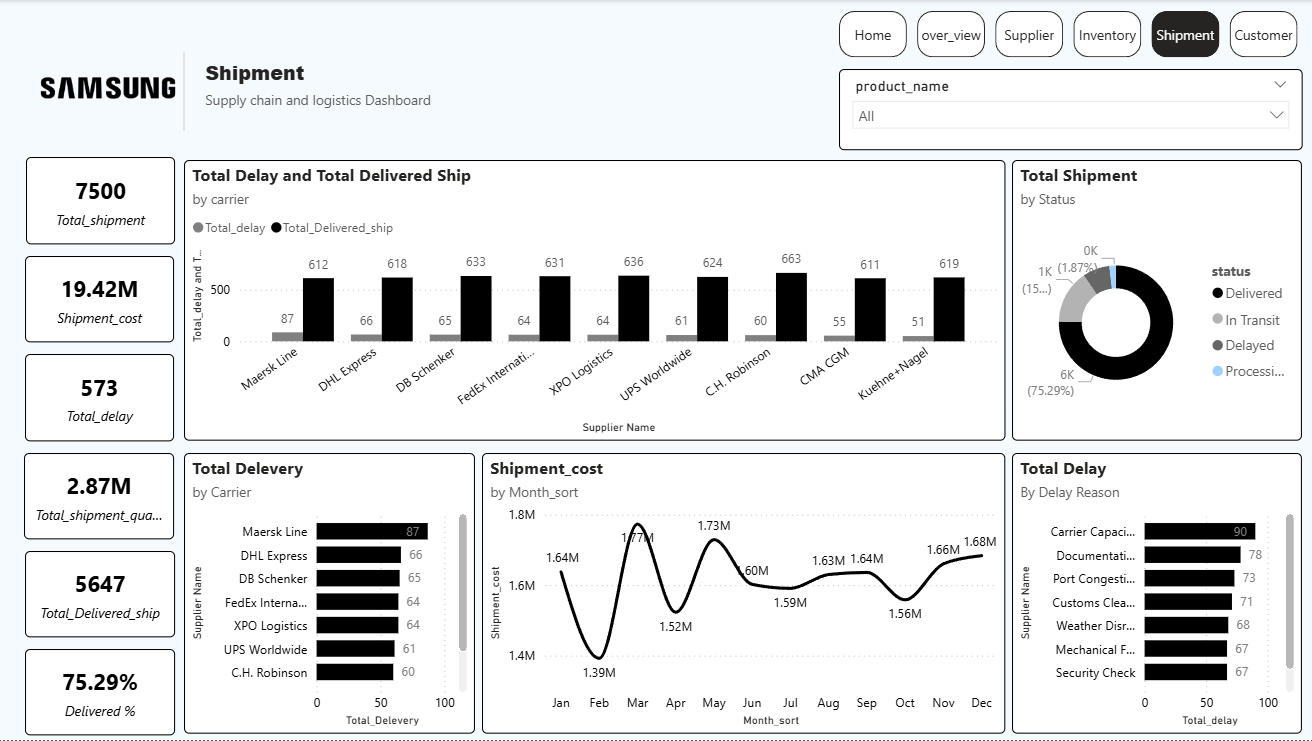

Layout of this report page (visuals, bound fields, positions):
{"tool":"powerbi","page":{"name":"Shipment","canvas":[1280,720],"ordinal":4},"visuals":[{"type":"image","box":[0,0,214,171.2],"z":0},{"type":"shape","box":[73.9,50.6,214,76.8],"z":1000},{"type":"textbox","title":"Shipment ","box":[196.5,56.4,250,58.4],"z":2000},{"type":"card","fields":{"Values":["Total_unit_cost.Shipment_cost"]},"box":[26,249.2,145,84],"z":3000},{"type":"card","fields":{"Values":["Total_unit_cost.Total_delay"]},"box":[26,344.5,145,84.8],"z":4000},{"type":"card","fields":{"Values":["Total_unit_cost.Total_shipment_quantity"]},"box":[25,440.6,145.9,84],"z":5000},{"type":"card","fields":{"Values":["Total_unit_cost.Total_Delivered_ship"]},"box":[26,535.9,145.9,84],"z":6000},{"type":"card","fields":{"Values":["Total_unit_cost.Delivered %"]},"box":[26,631.1,145.9,84],"z":7000},{"type":"card","title":"Gross Profit ","fields":{"Values":["Total_unit_cost.Total_shipment"]},"box":[27,152.9,145,85],"z":8000},{"type":"clusteredBarChart","title":"Total Delevery","fields":{"Category":["Shipment.carrier"],"Y":["Total_unit_cost.Total_Delevery"]},"box":[180.6,441,283.3,273.4],"z":9000},{"type":"pageNavigator","box":[818,10.7,451.3,45.7],"z":10000},{"type":"clusteredColumnChart","title":"Total Delay and Total Delivered Ship","fields":{"Y":["Total_unit_cost.Total_delay","Total_unit_cost.Total_Delivered_ship"],"Category":["Shipment.carrier"]},"box":[180.6,155.6,799.1,273.4],"z":11000},{"type":"lineChart","fields":{"Y":["Total_unit_cost.Shipment_cost"],"Category":["Data.Month_sort"]},"box":[470.9,441,508.8,273.4],"z":12000},{"type":"clusteredBarChart","title":"Total Delay ","fields":{"Category":["Shipment.delay_reason"],"Y":["Total_unit_cost.Total_delay"]},"box":[986.7,441,282.3,273.4],"z":13000},{"type":"donutChart","title":"Total Shipment ","fields":{"Category":["Shipment.status"],"Y":["Total_unit_cost.Total_shipment"]},"box":[986.7,155.6,282.3,273.4],"z":14000},{"type":"slicer","fields":{"Values":["Product.product_name"]},"box":[817.6,66.8,451.3,78.9],"z":15000}]}

Visuals, with their boxes in screenshot pixels (x1, y1, x2, y2), scaled from the page's 1280x720 canvas onto the 1312x741 screenshot:
image: box=[0, 0, 219, 176]
shape: box=[76, 52, 295, 131]
"Shipment " textbox: box=[201, 58, 458, 118]
card - Total_unit_cost.Shipment_cost: box=[27, 256, 175, 343]
card - Total_unit_cost.Total_delay: box=[27, 355, 175, 442]
card - Total_unit_cost.Total_shipment_quantity: box=[26, 453, 175, 540]
card - Total_unit_cost.Total_Delivered_ship: box=[27, 552, 176, 638]
card - Total_unit_cost.Delivered %: box=[27, 650, 176, 736]
"Gross Profit " card: box=[28, 157, 176, 245]
"Total Delevery" clusteredBarChart: box=[185, 454, 475, 735]
pageNavigator: box=[838, 11, 1301, 58]
"Total Delay and Total Delivered Ship" clusteredColumnChart: box=[185, 160, 1004, 442]
lineChart - Total_unit_cost.Shipment_cost x Data.Month_sort: box=[483, 454, 1004, 735]
"Total Delay " clusteredBarChart: box=[1011, 454, 1301, 735]
"Total Shipment " donutChart: box=[1011, 160, 1301, 442]
slicer - Product.product_name: box=[838, 69, 1301, 150]
